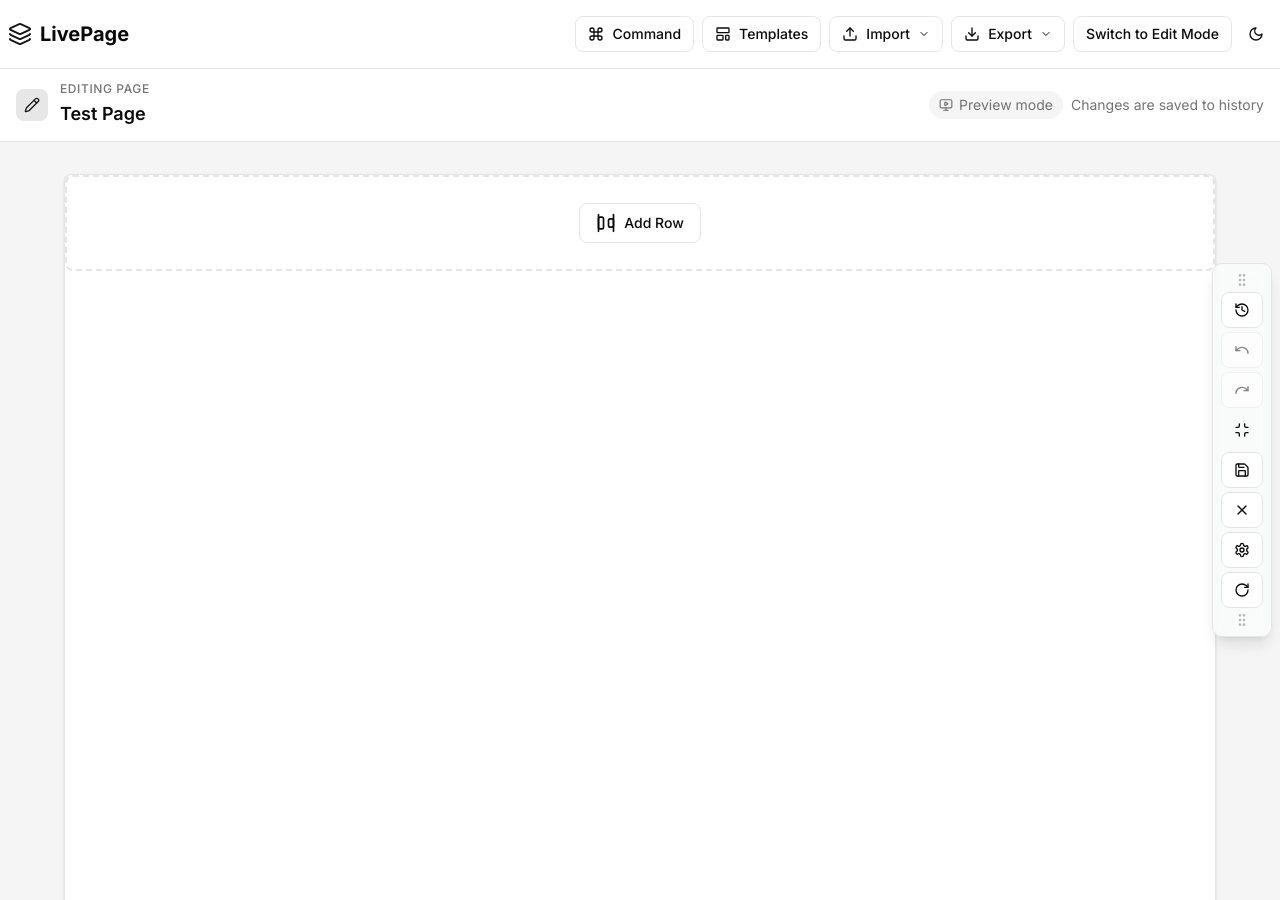
Test: BuilderPage Integration › opens export dropdown when Export button is clicked
Click the button "Export": (1008, 34) [951,16,1065,52]
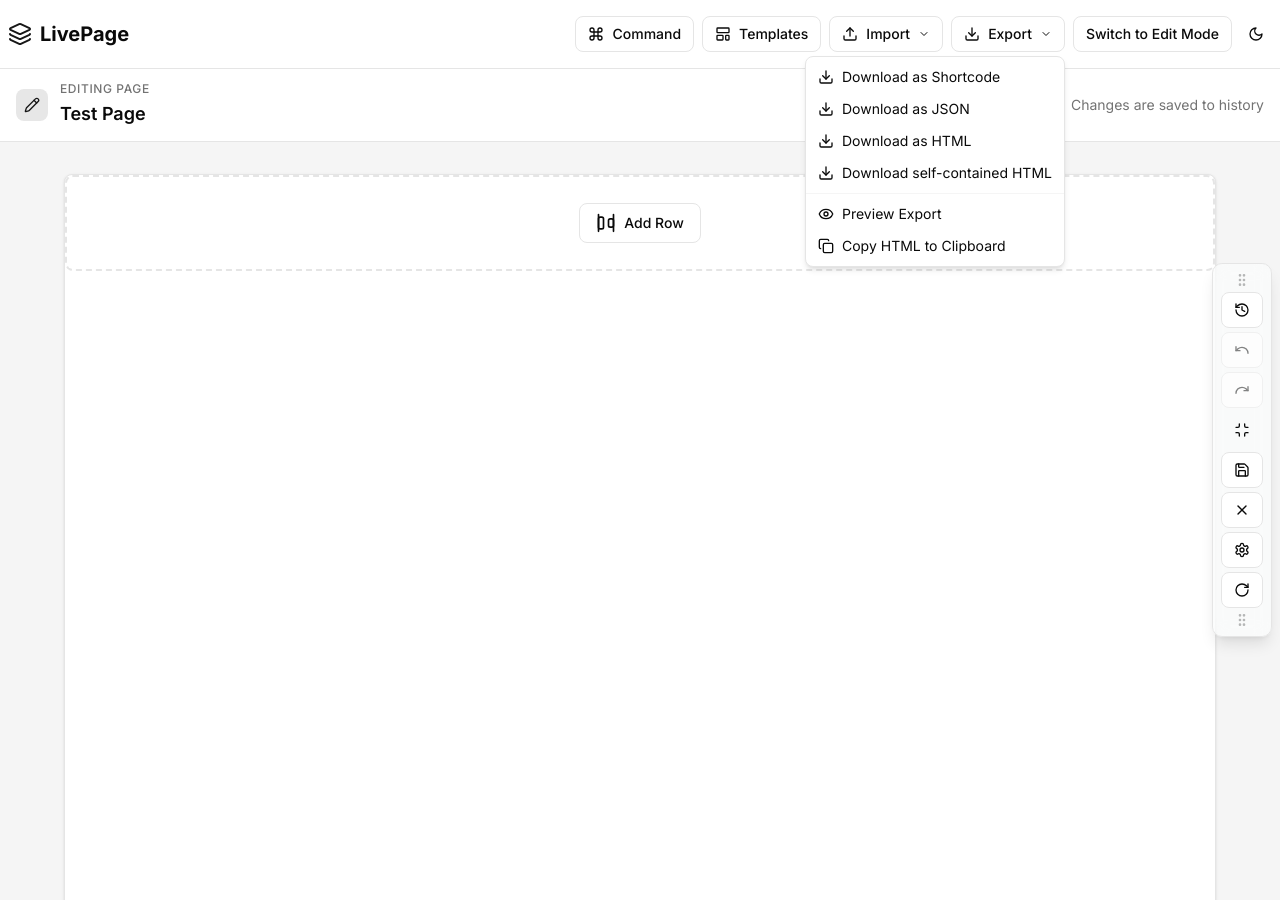
Now the menu item "Download as JSON" is shown, box [818,100,970,117]
Now the menu item "Download as HTML" is shown, box [818,132,972,149]
